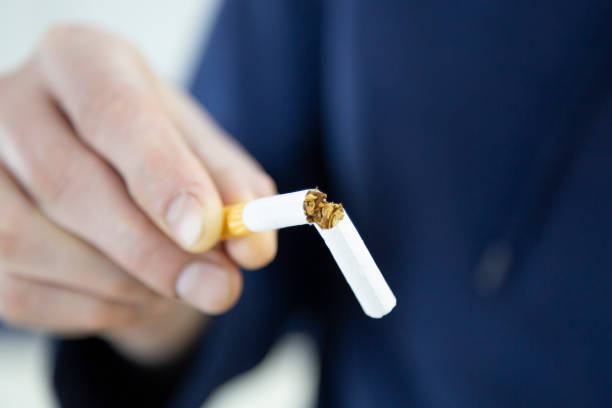cigarette: (311, 202, 399, 320), (215, 188, 328, 242)
